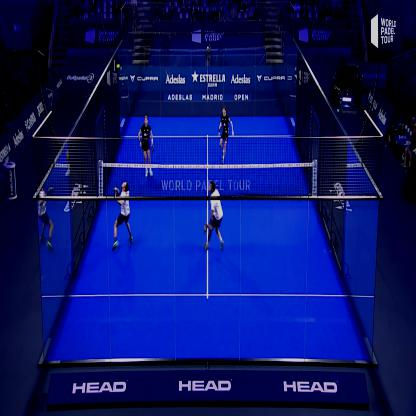ball: (114, 60, 121, 72)
